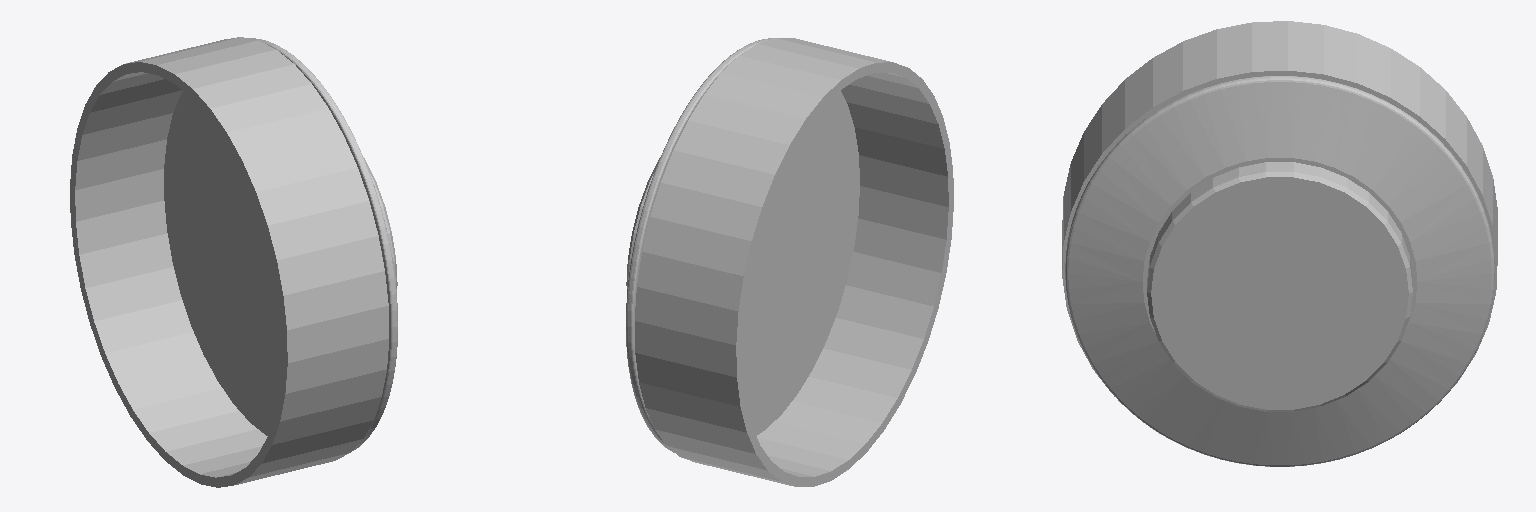
File: wrist_roll_link.obj
3 renders of one model, left to right at view 1: azimuth 30°, elevation 25°; view 2: azimuth 150°, elevation 25°; view 3: azimuth 270°, elevation 25°, orthographic.
Parts seen in each view (by area): view 1: wrist_roll_link; view 2: wrist_roll_link; view 3: wrist_roll_link.
Boxes of the visible parts, box(x1,y1,x2,y2) form: wrist_roll_link: box(70, 37, 397, 487); wrist_roll_link: box(626, 38, 953, 486); wrist_roll_link: box(1062, 21, 1497, 466).
Size of the model in its own units: 0.0425 by 0.1039 by 0.1039.